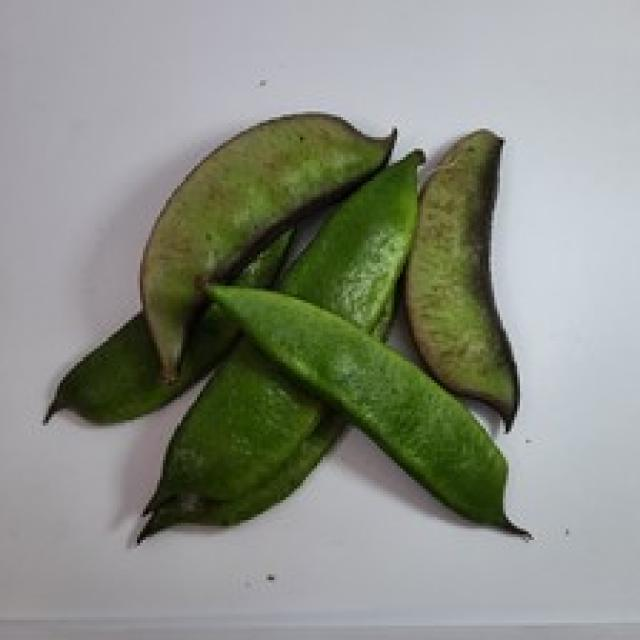Bean: (43, 108, 531, 543), (200, 277, 531, 537), (137, 108, 397, 383), (403, 126, 520, 431)
